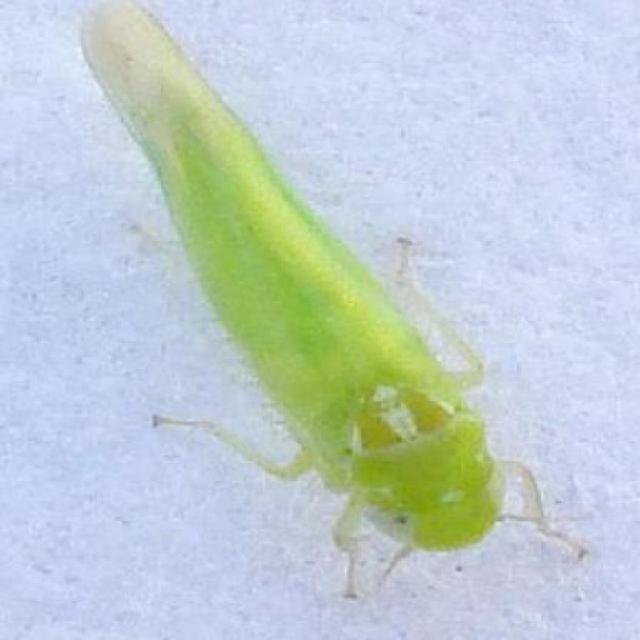green-leafhopper: (78, 1, 597, 598)
